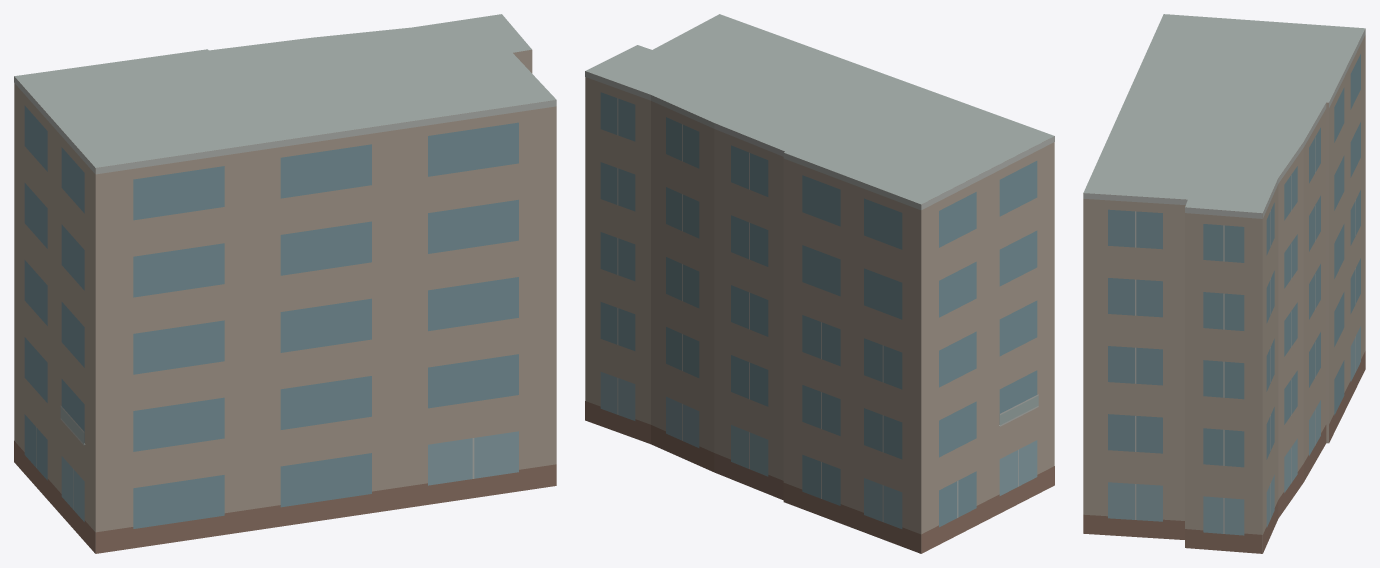
File: survey-upis-32925703.glb
3 renders of one model, left to right at view 1: azimuth 30°, elevation 25°; view 2: azimuth 150°, elevation 25°; view 3: azimuth 270°, elevation 25°, orthographic. The views are drawn at different scales.
Parts seen in each view (by area): view 1: survey-upis-32925703.tmp; view 2: survey-upis-32925703.tmp; view 3: survey-upis-32925703.tmp.
Boxes of the visible parts, x1,y1,x2,y2 form: survey-upis-32925703.tmp: (14, 14, 556, 553); survey-upis-32925703.tmp: (585, 14, 1054, 553); survey-upis-32925703.tmp: (1083, 14, 1365, 553).
Bounding box in the file's own units: 18.2 × 14.5 × 10.9.
